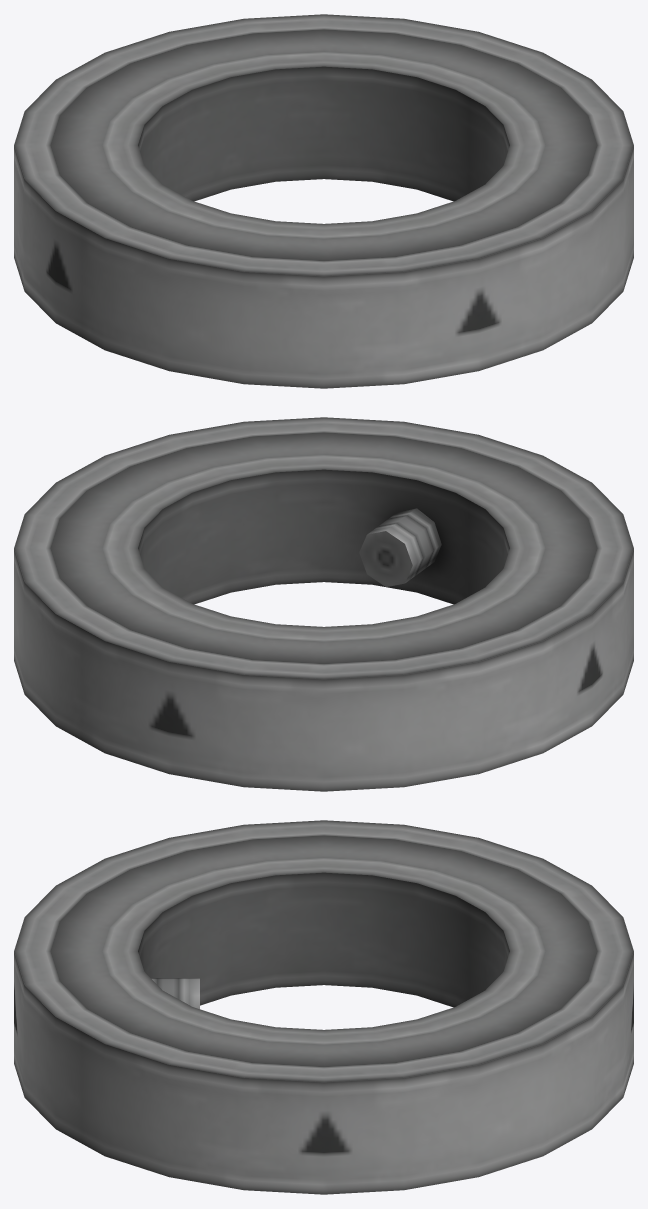
Rendered from castor_decoupler_s0_1.obj.
3 views of the same model, one above another, from view 1: azimuth 30°, elevation 25°; view 2: azimuth 150°, elevation 25°; view 3: azimuth 270°, elevation 25° (orthographic).
Parts seen in each view (by area): view 1: castor_decoupler_s0_1; view 2: castor_decoupler_s0_1; view 3: castor_decoupler_s0_1.
Part boxes in pixels (<box>): castor_decoupler_s0_1: <box>14,14,633,388</box>; castor_decoupler_s0_1: <box>14,417,633,791</box>; castor_decoupler_s0_1: <box>14,820,633,1194</box>.
Size of the model in its own units: 0.625 by 0.125 by 0.625.
